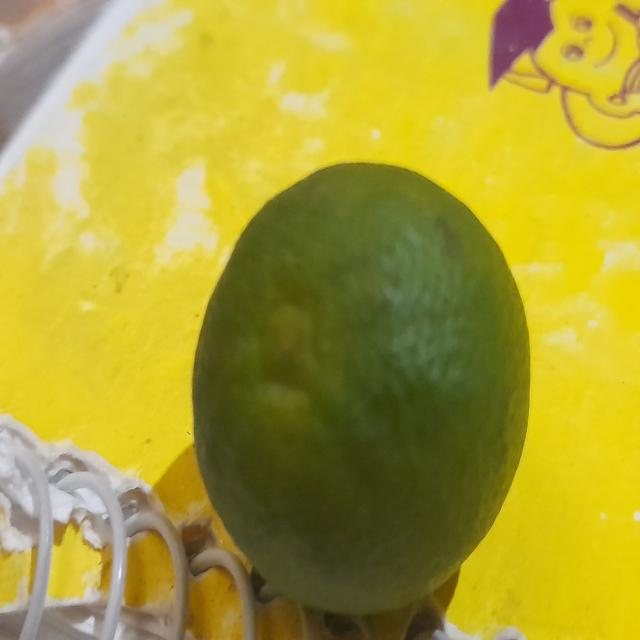heathy: (189, 160, 533, 610)
